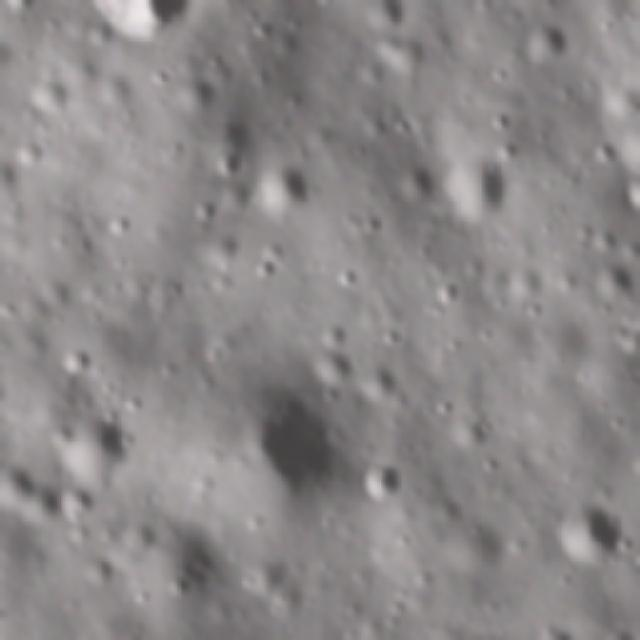crater: (238, 385, 344, 497), (431, 141, 512, 222), (550, 497, 624, 563), (56, 422, 132, 486), (83, 0, 203, 38), (252, 162, 318, 221), (520, 22, 572, 72), (363, 452, 408, 506), (56, 345, 110, 377), (317, 318, 354, 358), (595, 262, 630, 304), (99, 206, 133, 242), (429, 282, 465, 310), (476, 450, 506, 481), (188, 198, 220, 227), (165, 574, 193, 604), (382, 328, 410, 354), (255, 254, 279, 283), (441, 334, 465, 358), (338, 266, 358, 292), (521, 297, 541, 323), (607, 416, 631, 436)
